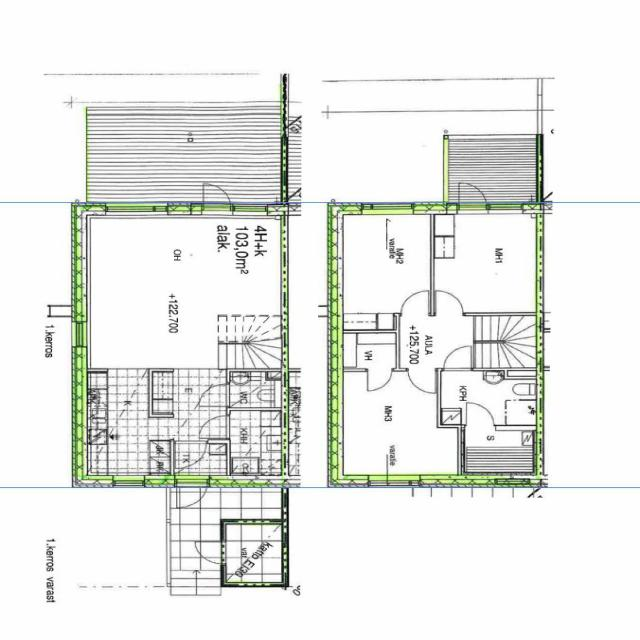door: (176, 476, 206, 512), (203, 180, 230, 216), (458, 180, 485, 215), (175, 439, 206, 468), (465, 402, 493, 431), (193, 541, 226, 563), (199, 384, 230, 407), (400, 291, 428, 316), (199, 416, 230, 438), (408, 368, 435, 393), (444, 346, 470, 371), (436, 291, 462, 316), (367, 368, 391, 390)
